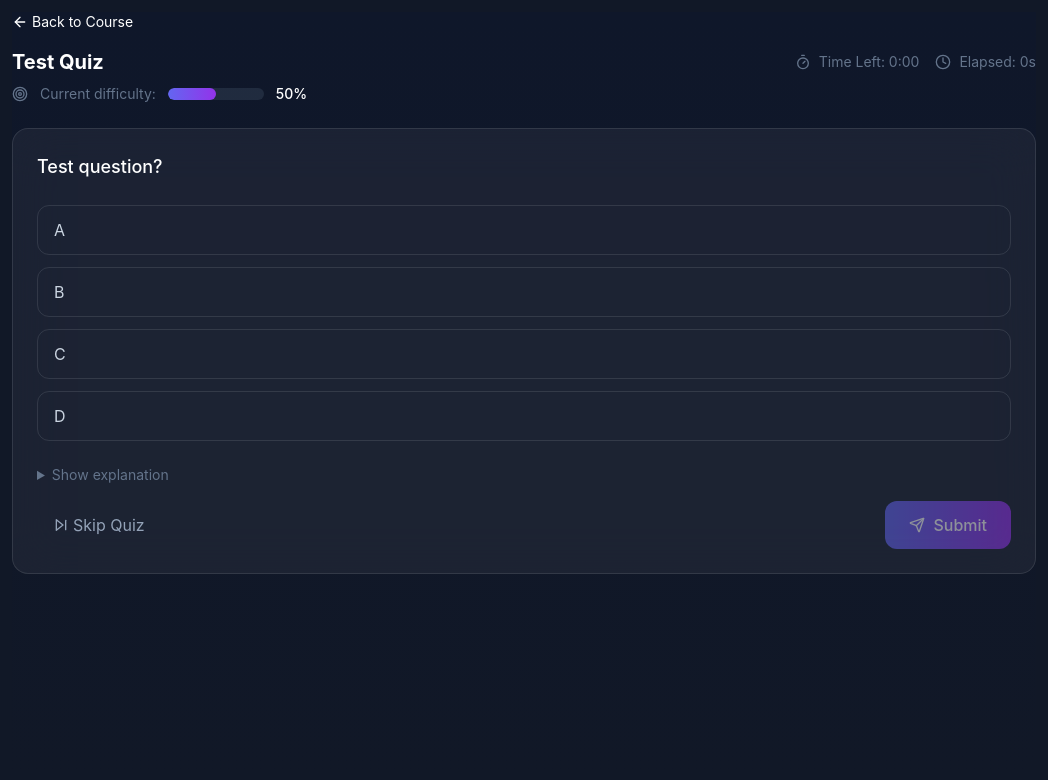
Scenario: QuizEngine › allows selecting and submitting an answer
Expected: the heading "Test question?" is shown, [37, 156, 163, 177]
Note: Select an answer
Click the button "A" at coordinates (60, 230), box [37, 205, 1011, 255]
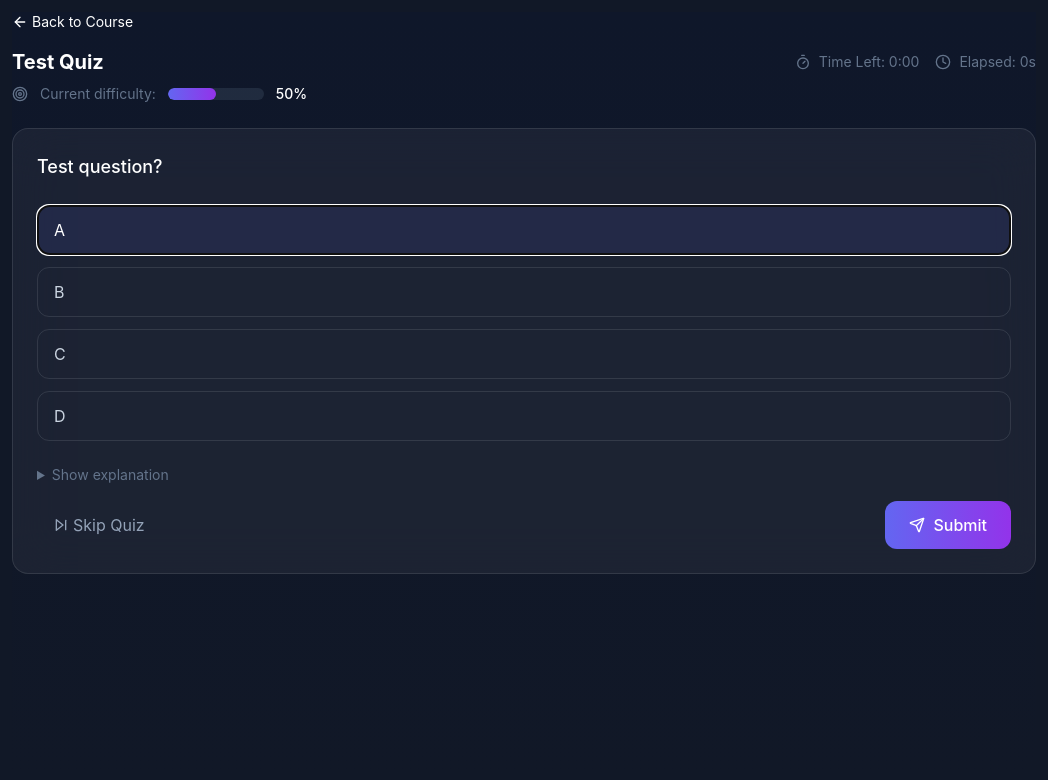
Note: Submit answer
Click the button "Submit" at coordinates (948, 525), box [886, 501, 1011, 549]
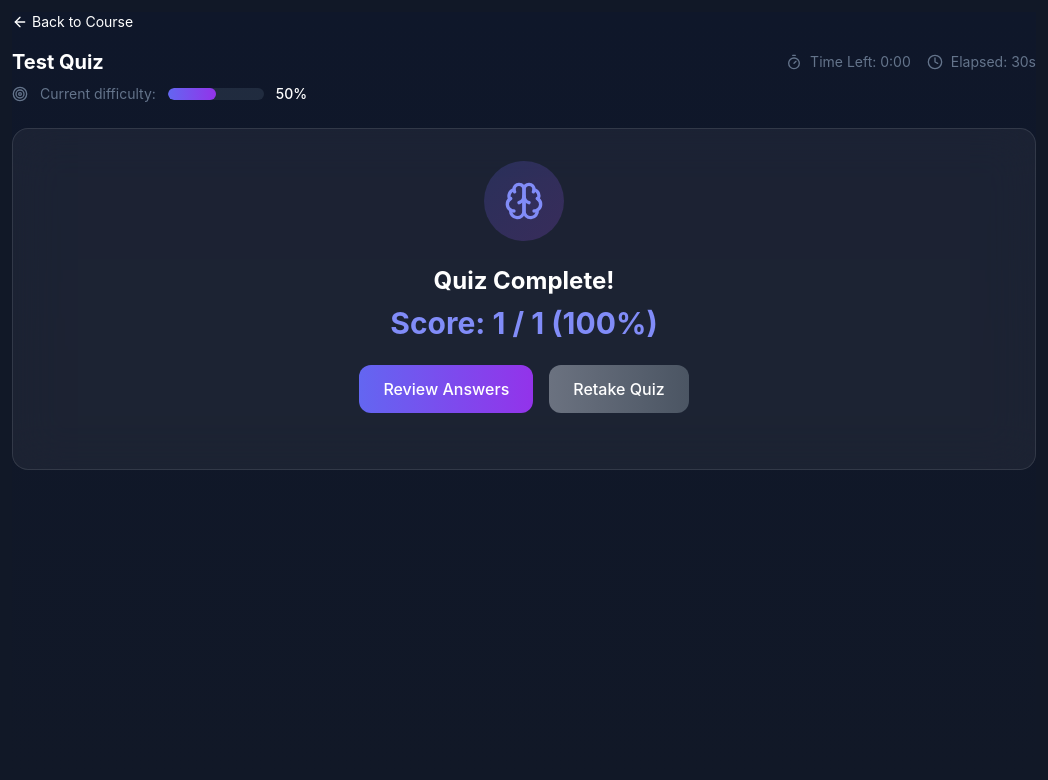
Expected: the heading "Quiz Complete!" is shown, [434, 266, 614, 295]
Expected: the text "Score: 1 / 1 (100%)" is shown, [390, 305, 658, 341]
